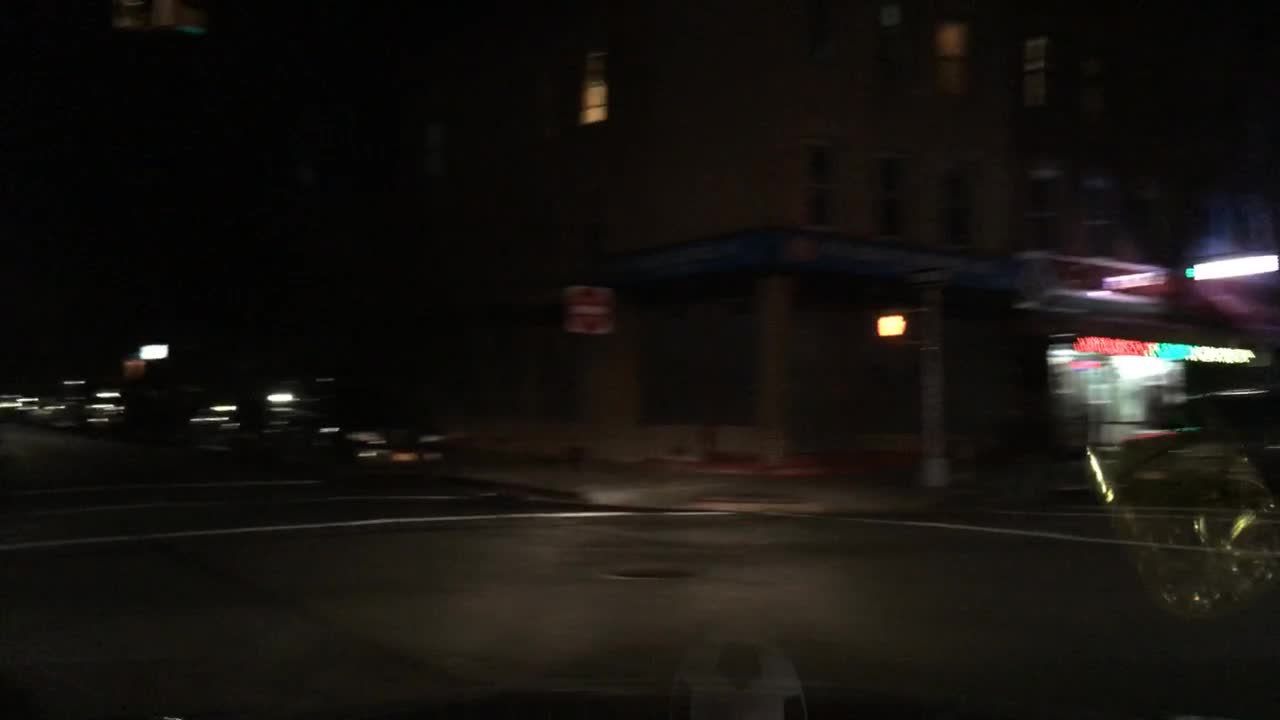car: (1115, 381, 1279, 511), (297, 393, 454, 488), (185, 371, 330, 467), (89, 380, 197, 437), (23, 378, 104, 434), (0, 386, 44, 420)
traffic light: (870, 310, 913, 342)
traffic sign: (563, 280, 617, 336), (908, 265, 960, 287)
